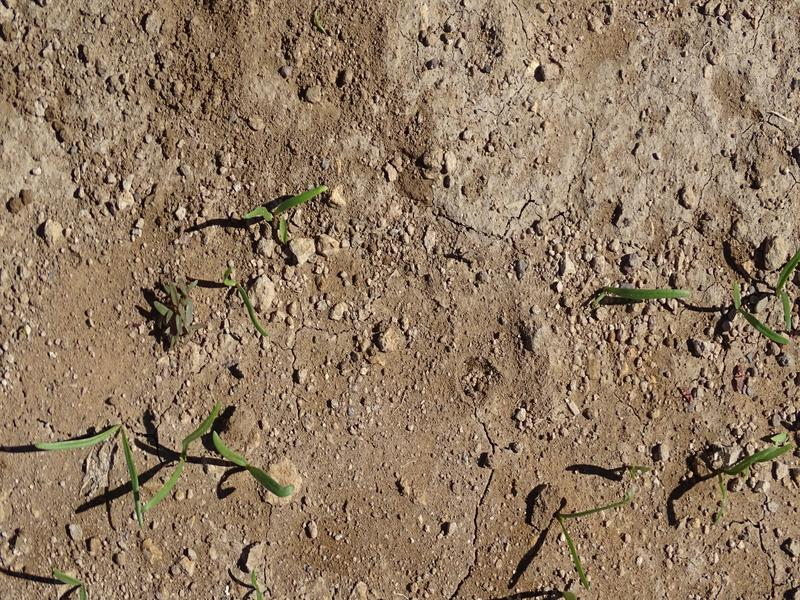Espinaca: (42, 420, 160, 518), (548, 492, 631, 587), (151, 403, 224, 508), (205, 428, 303, 504), (721, 249, 793, 345), (240, 183, 335, 239), (566, 275, 691, 314)
